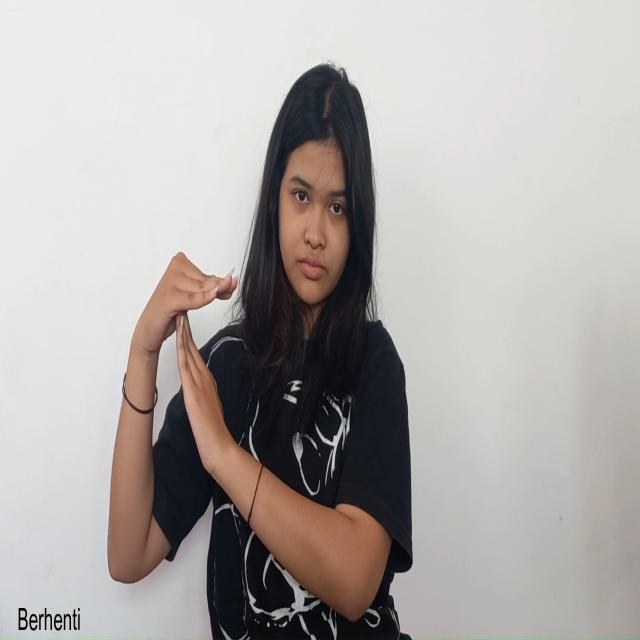Berhenti -BISINDO-: (122, 248, 241, 490)
